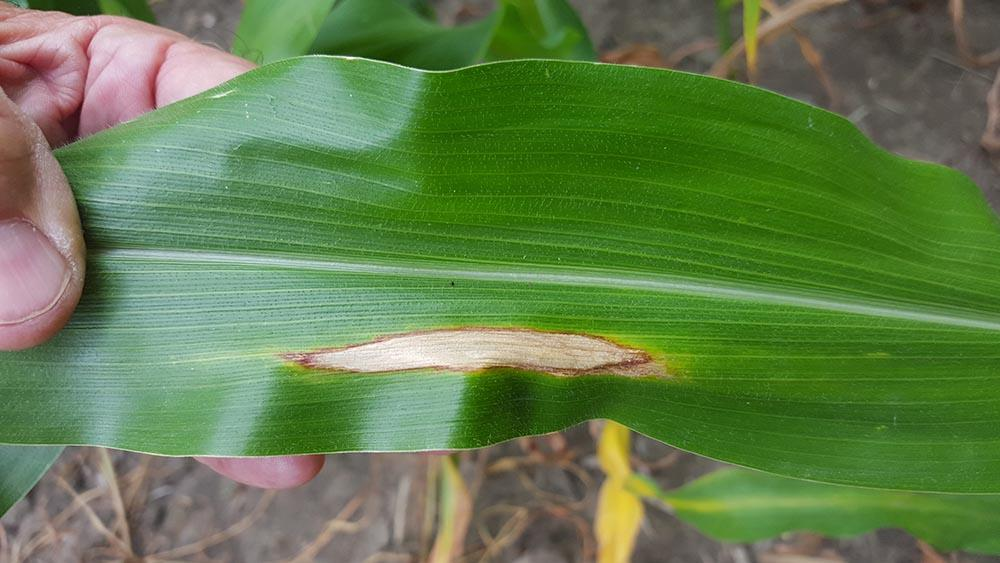Corn leaf blight: (104, 60, 1000, 478)
